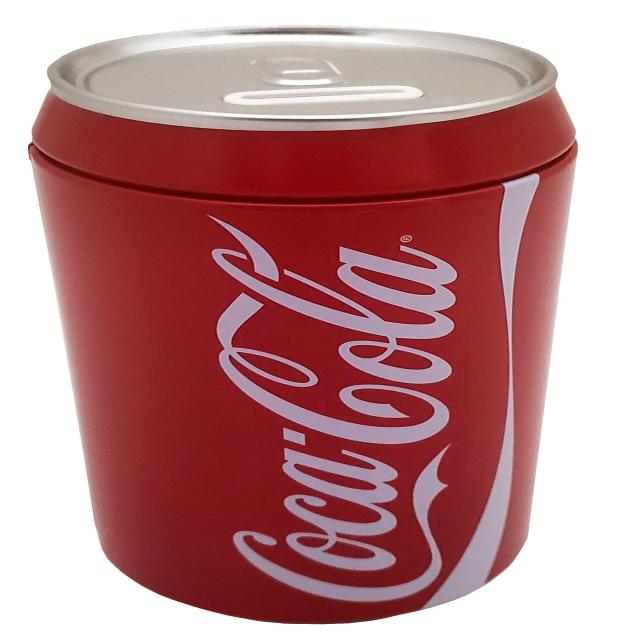cocacola: (40, 34, 562, 625)
